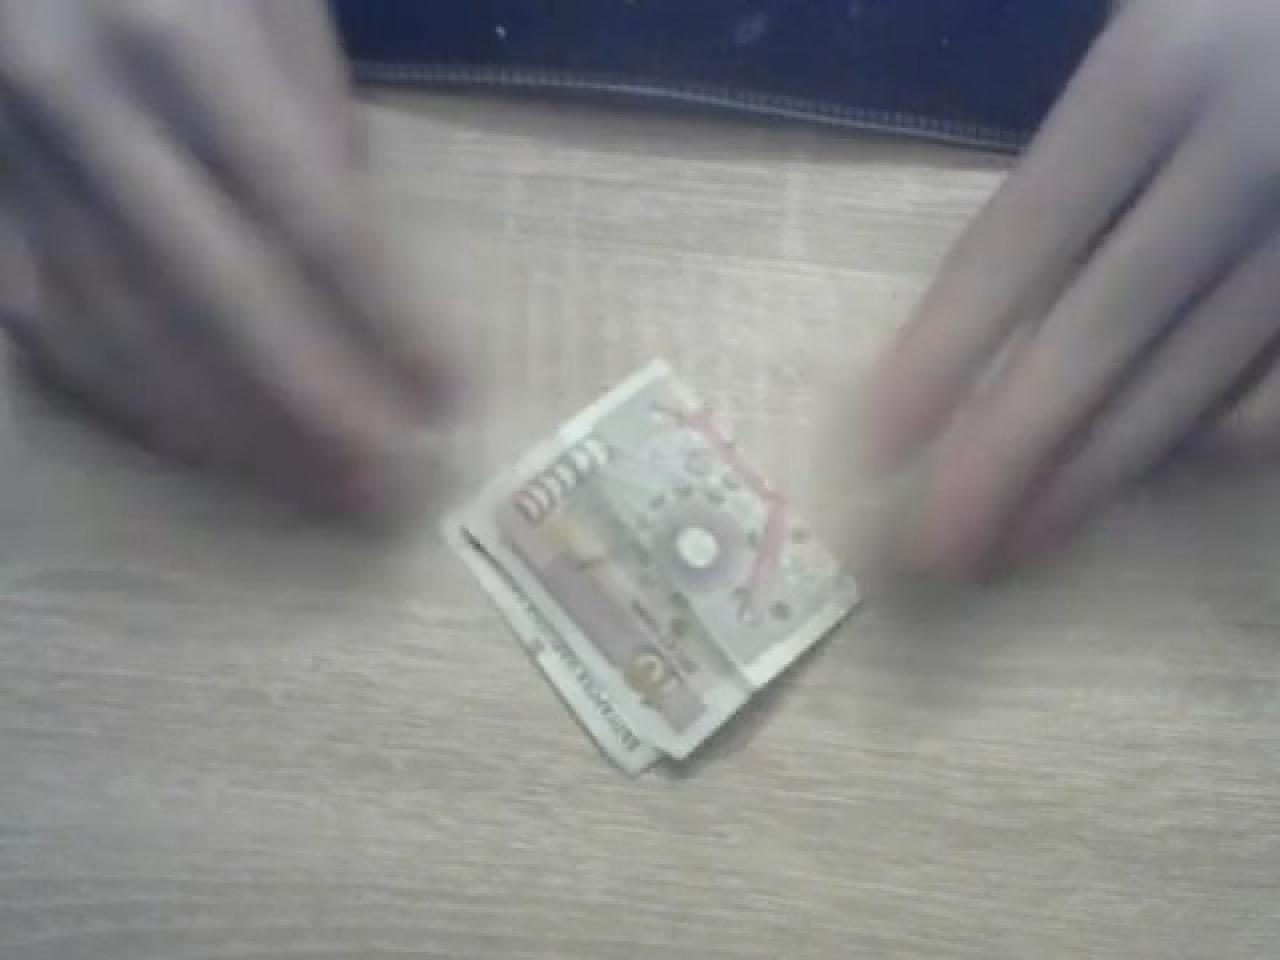10leva: (440, 352, 864, 778)
